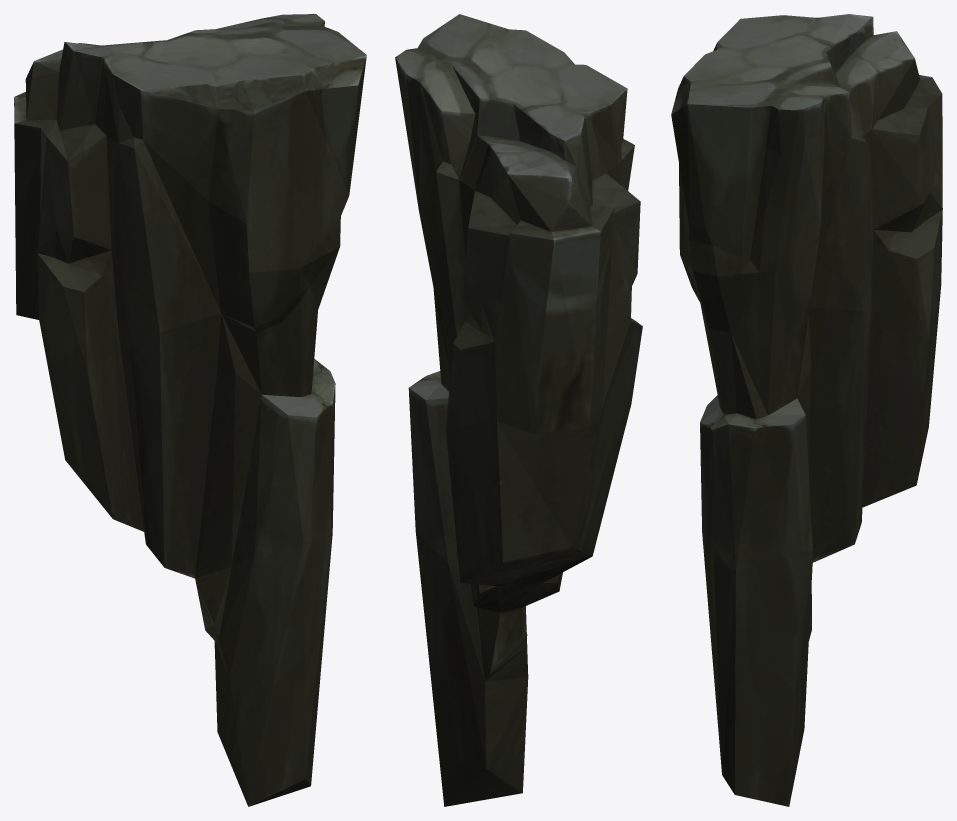
The model's file is yw_shangu_stones_003.FBX.
The picture shows the model from 3 angles, left to right: view 1: azimuth 30°, elevation 25°; view 2: azimuth 150°, elevation 25°; view 3: azimuth 270°, elevation 25°; orthographic projection. The views are drawn at different scales.
Visible parts, largest first — view 1: yw_shangu_stones_003; view 2: yw_shangu_stones_003; view 3: yw_shangu_stones_003.
Boxes of the visible parts, bbox=[...] form: yw_shangu_stones_003: bbox=[14, 14, 366, 806]; yw_shangu_stones_003: bbox=[395, 14, 642, 806]; yw_shangu_stones_003: bbox=[671, 14, 942, 806].
Bounding box in the file's own units: 77.66 × 217 × 74.12.
